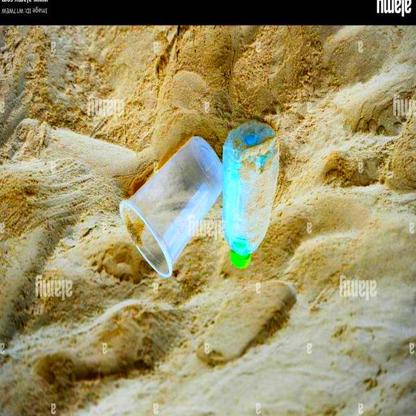plastic bottle: (120, 136, 222, 275), (223, 120, 280, 268)
